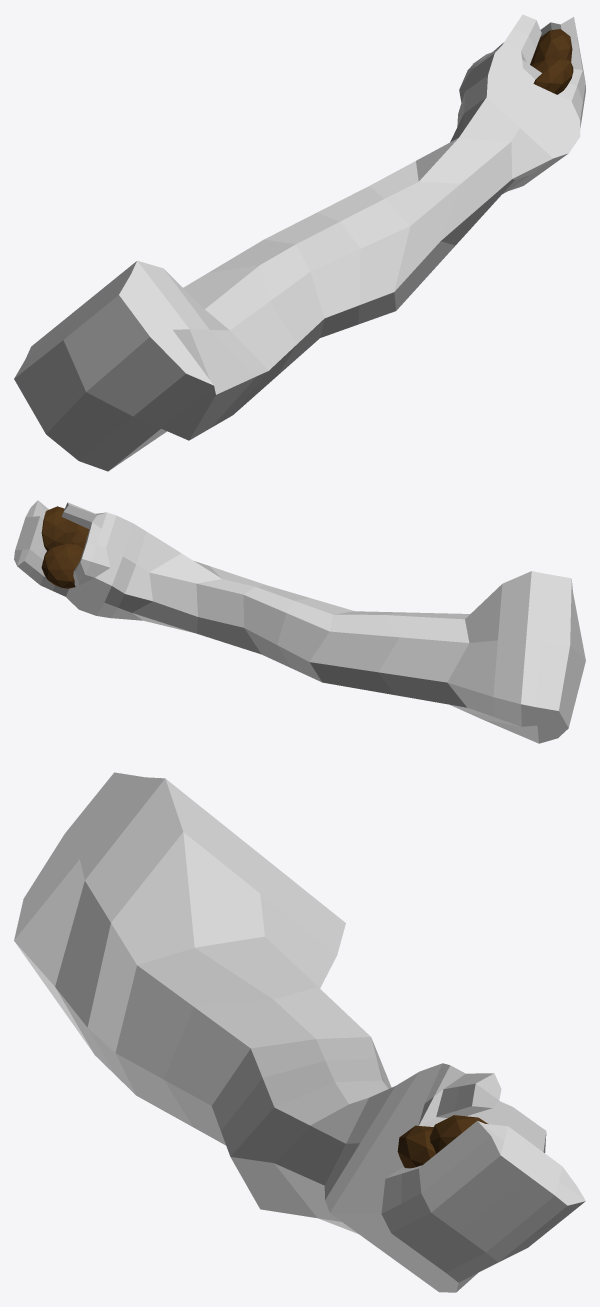
Rendered from armseed.fbx.
The picture shows the model from 3 angles, top to bottom: view 1: azimuth 30°, elevation 25°; view 2: azimuth 150°, elevation 25°; view 3: azimuth 270°, elevation 25°; orthographic projection. The views are drawn at different scales.
Parts seen in each view (by area): view 1: Arm; view 2: Arm; view 3: Arm.
Boxes of the visible parts, x1,y1,x2,y2 form: Arm: (14,14,585,471); Arm: (14,500,585,743); Arm: (14,772,585,1292).
Bounding box in the file's own units: 148 × 58.31 × 77.47.
